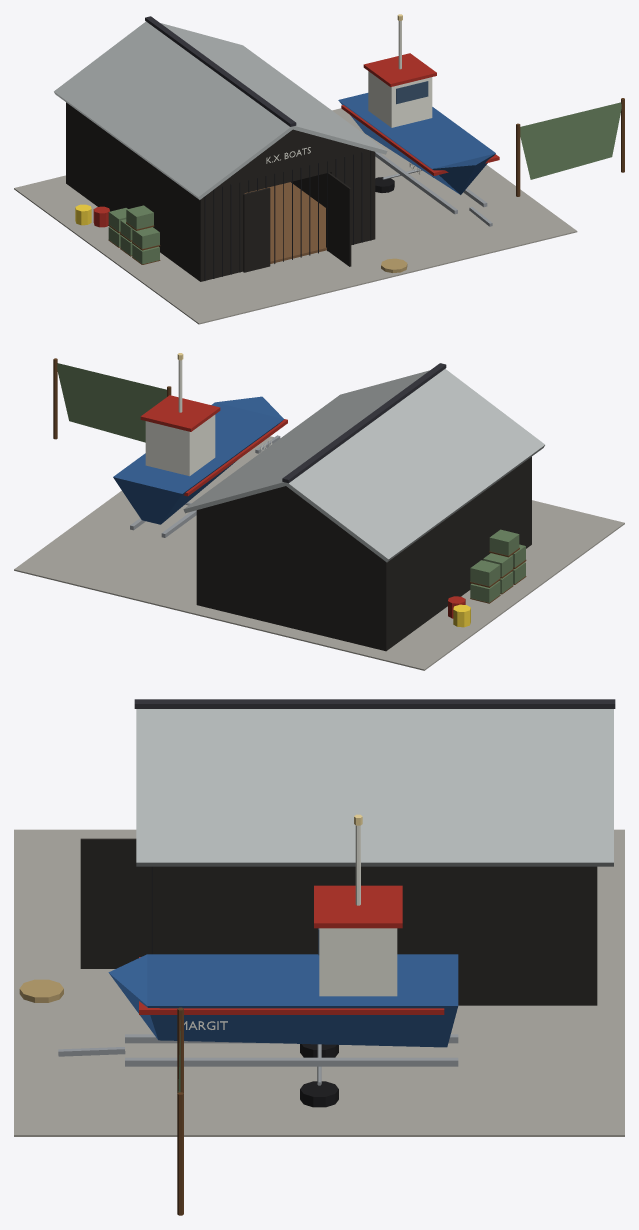
The model's file is village.boatyard.glb.
3 renders of one model, top to bottom at view 1: azimuth 30°, elevation 25°; view 2: azimuth 150°, elevation 25°; view 3: azimuth 270°, elevation 25°, orthographic. The views are drawn at different scales.
Visible parts, largest first — view 1: hard, roof-l, w-side-1, roof-r, hull, net-hang, w-front-l, w-floor, roof-gable1, w-front-r, door-l, wheelhouse (+10 smaller); view 2: roof-l, hard, w-back, w-side-1, roof-r, hull, net-hang, roof-gable-1, wheelhouse, wheelhouse-roof, roof-ridge, rubbing-strake (+4 smaller); view 3: hard, roof-r, w-side1, hull, door-r, wheelhouse, roof-ridge, wheelhouse-roof, trailer-rail1, rubbing-strake, w-back, w-front-r (+3 smaller).
Boxes of the visible parts, x1,y1,x2,y2 form: hard: (14, 108, 577, 324); roof-l: (54, 21, 294, 199); w-side-1: (70, 105, 196, 278); roof-r: (160, 23, 387, 154); hull: (338, 93, 495, 194); net-hang: (520, 102, 621, 179); w-front-l: (196, 181, 244, 281); w-floor: (244, 182, 326, 263); roof-gable1: (203, 129, 375, 198); w-front-r: (330, 150, 375, 244); door-l: (243, 187, 270, 272); wheelhouse: (368, 71, 432, 127); roof-l: (284, 369, 544, 562); hard: (14, 436, 624, 670); w-back: (196, 508, 390, 651); w-side-1: (390, 460, 527, 647); roof-r: (183, 370, 429, 513); hull: (113, 396, 284, 524); net-hang: (57, 363, 166, 442); roof-gable-1: (203, 486, 384, 562); wheelhouse: (145, 415, 215, 476); wheelhouse-roof: (140, 395, 220, 431); roof-ridge: (282, 363, 446, 483); rubbing-strake: (183, 419, 287, 496); hard: (14, 829, 624, 1136); roof-r: (136, 709, 613, 866); w-side1: (166, 866, 583, 1005); hull: (108, 954, 458, 1047); door-r: (80, 838, 151, 968); wheelhouse: (319, 928, 397, 996); roof-ridge: (134, 699, 615, 708); wheelhouse-roof: (314, 885, 402, 928); trailer-rail1: (125, 1057, 458, 1066); rubbing-strake: (139, 957, 444, 1014); w-back: (583, 866, 597, 1005); w-front-r: (153, 866, 166, 954).
Bounding box in the file's own units: 16.35 × 5.2 × 11.
